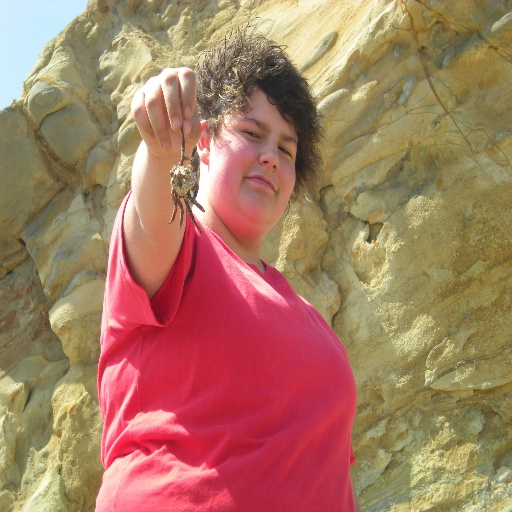hand: (128, 56, 203, 168)
